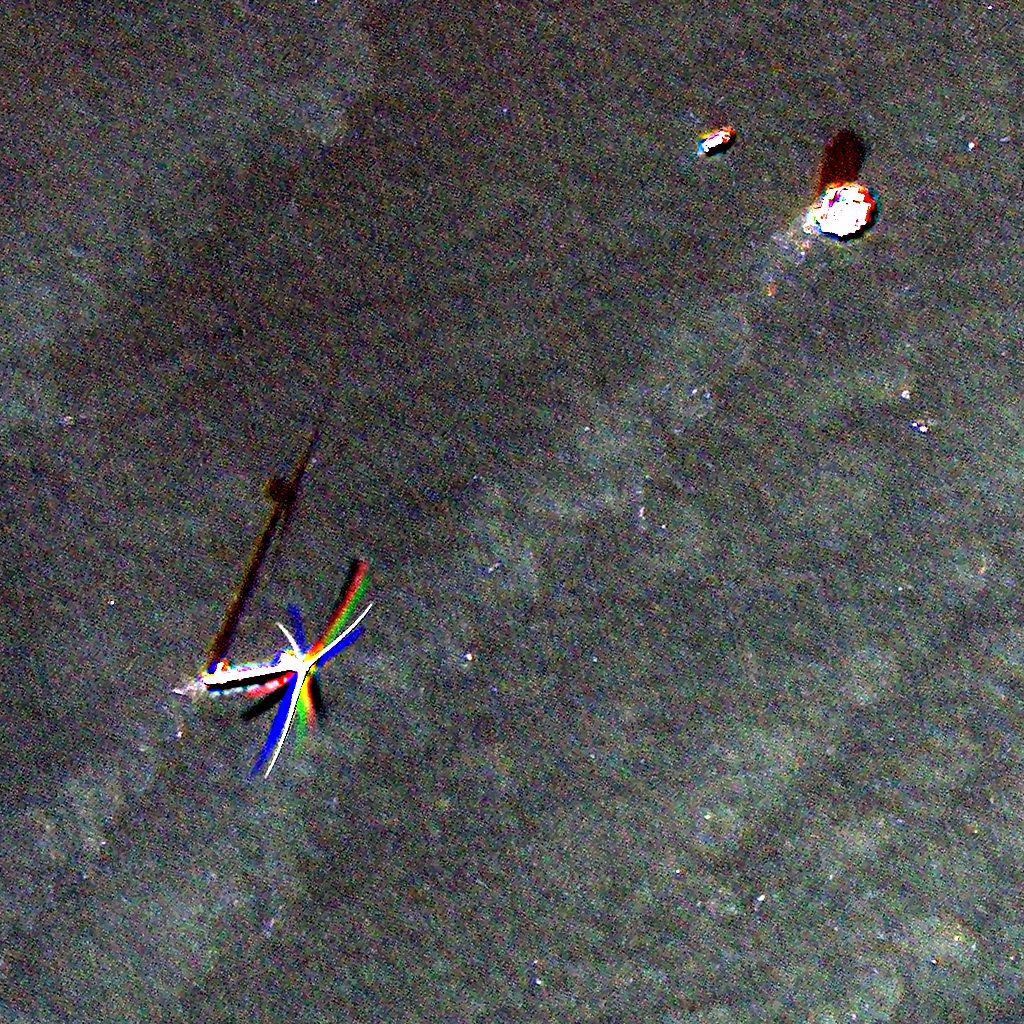ship: (700, 125, 737, 155)
